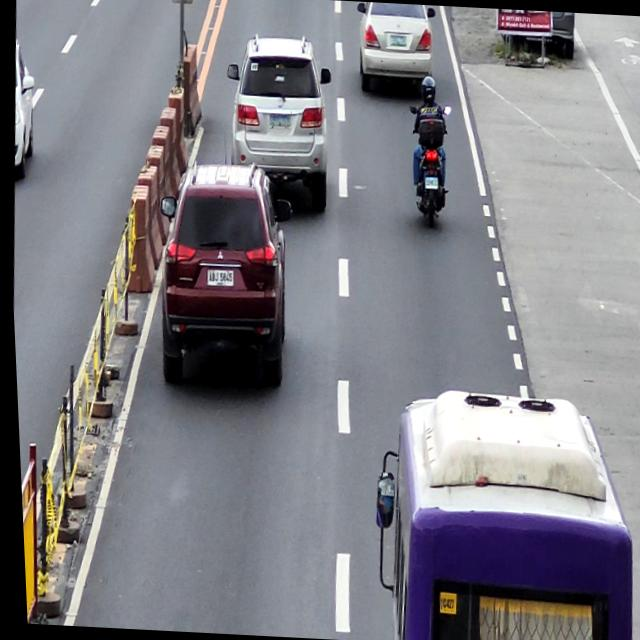Bus: (361, 384, 640, 640)
Car: (147, 159, 298, 394), (218, 32, 338, 218), (353, 1, 438, 94)
License-Plate: (204, 268, 232, 287), (266, 112, 291, 130), (389, 33, 408, 47), (423, 176, 438, 190)
Motorcycle: (402, 104, 455, 228)
